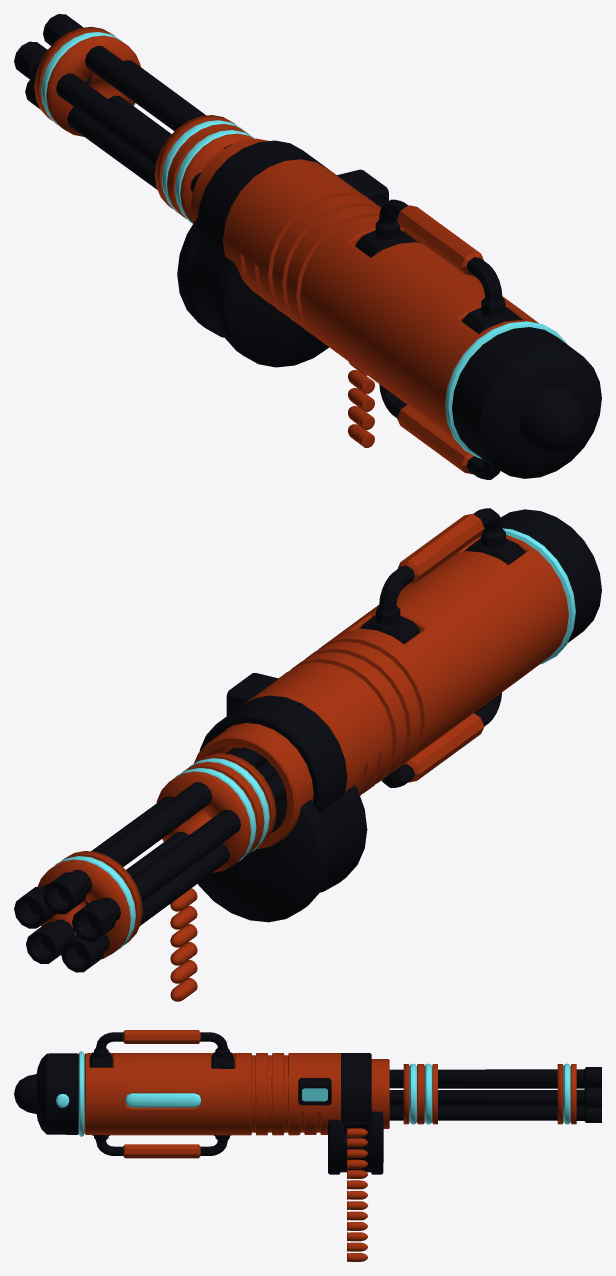
The model's file is MachineGunB01.fbx.
3 views of the same model, one above another, from view 1: azimuth 30°, elevation 25°; view 2: azimuth 150°, elevation 25°; view 3: azimuth 270°, elevation 25° (orthographic). The views are drawn at different scales.
Parts seen in each view (by area): view 1: Cylinder034, Cylinder041, Cylinder037, MachineGun02, Cylinder038, Cylinder042, Cylinder035, Bulets001, Cylinder040, Cylinder044, Cylinder039, Box001 (+1 smaller); view 2: Cylinder034, Cylinder041, Cylinder037, MachineGun02, Cylinder038, Cylinder035, Cylinder039, Cylinder042, Bulets001, Cylinder040, Cylinder044, Box001 (+1 smaller); view 3: Cylinder034, Cylinder041, MachineGun02, Bulets001, Cylinder037, Cylinder038, Cylinder035, Cylinder039, Cylinder040, Box001, Cylinder042, Cylinder044 (+1 smaller).
Part boxes in pixels (bbox=[...]): Cylinder034: bbox=[223, 159, 601, 478]; Cylinder041: bbox=[14, 14, 231, 206]; Cylinder037: bbox=[177, 218, 328, 367]; MachineGun02: bbox=[355, 199, 521, 479]; Cylinder038: bbox=[197, 140, 327, 258]; Cylinder042: bbox=[34, 26, 140, 136]; Cylinder035: bbox=[154, 115, 253, 222]; Bulets001: bbox=[347, 362, 374, 447]; Cylinder040: bbox=[161, 120, 255, 223]; Cylinder044: bbox=[445, 321, 566, 458]; Cylinder039: bbox=[190, 138, 296, 223]; Box001: bbox=[337, 169, 388, 207]; Cylinder034: bbox=[226, 509, 601, 795]; Cylinder041: bbox=[14, 747, 286, 972]; Cylinder037: bbox=[198, 761, 367, 922]; MachineGun02: bbox=[359, 508, 525, 787]; Cylinder038: bbox=[199, 695, 347, 813]; Cylinder035: bbox=[156, 753, 276, 872]; Cylinder039: bbox=[193, 723, 313, 848]; Cylinder042: bbox=[37, 851, 142, 959]; Bulets001: bbox=[170, 888, 197, 1001]; Cylinder040: bbox=[175, 758, 269, 861]; Cylinder044: bbox=[502, 528, 575, 664]; Box001: bbox=[226, 673, 278, 715]; Cylinder034: bbox=[14, 1053, 340, 1135]; Cylinder041: bbox=[389, 1067, 601, 1122]; MachineGun02: bbox=[89, 1030, 233, 1158]; Bulets001: bbox=[347, 1128, 368, 1261]; Cylinder037: bbox=[328, 1111, 383, 1174]; Cylinder038: bbox=[341, 1053, 371, 1132]; Cylinder035: bbox=[403, 1064, 437, 1124]; Cylinder039: bbox=[371, 1059, 389, 1128]; Cylinder040: bbox=[409, 1063, 432, 1124]; Box001: bbox=[298, 1078, 331, 1105]; Cylinder042: bbox=[557, 1064, 576, 1124]; Cylinder044: bbox=[78, 1051, 84, 1136].
Bounding box in the file's own units: 57.62 × 117 × 303.
